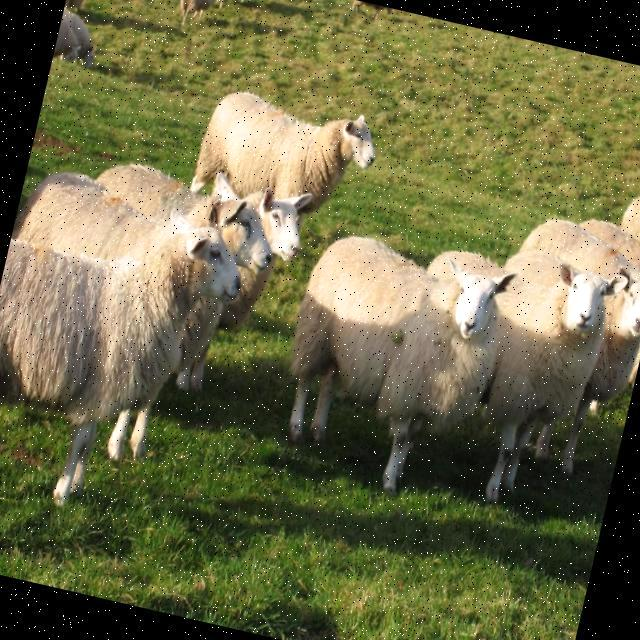sheep: (289, 235, 504, 488)
